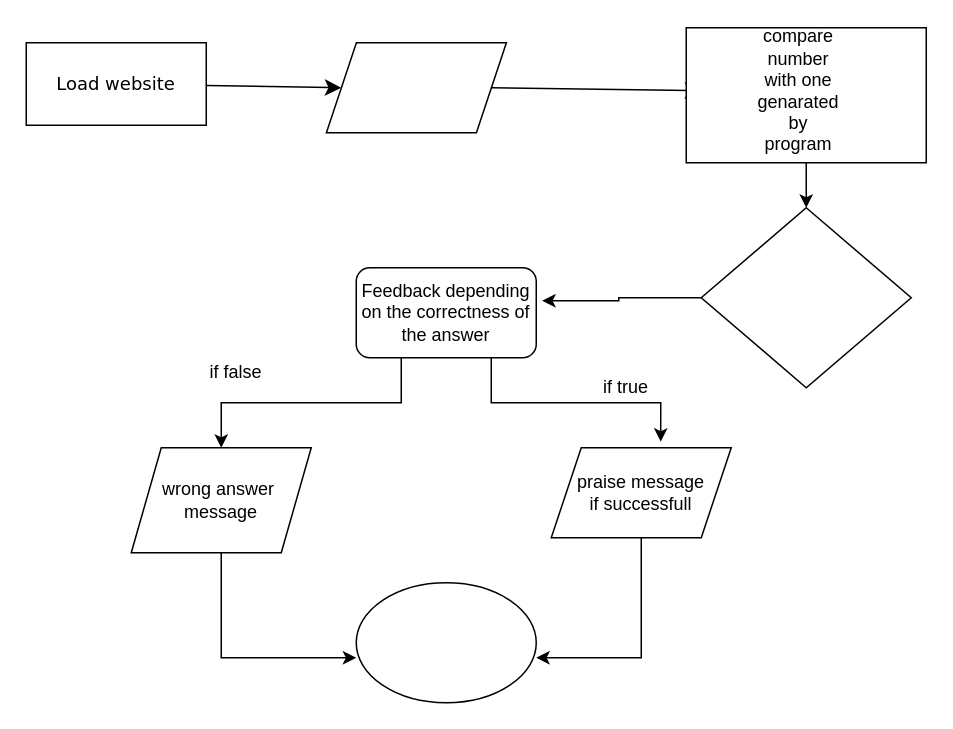
This 953x729 diagram has some shape labels left out. Each missing label, with the centre of its shape:
end: the point at 445,642
is user input = generated number: the point at 805,297
user inputs number: the point at 415,87
